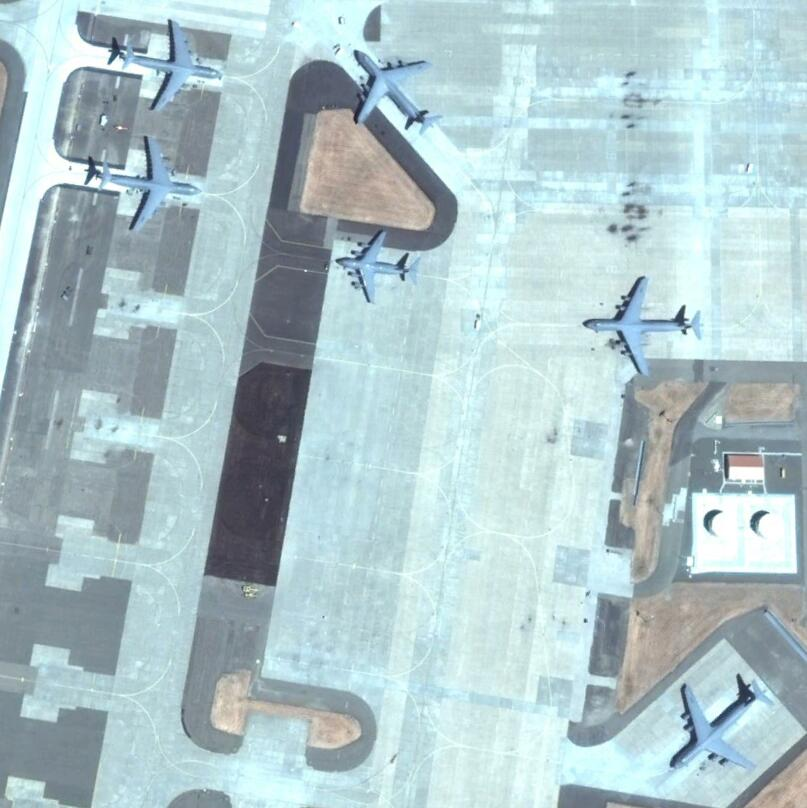A3: (333, 228, 424, 305)
A4: (587, 274, 707, 379), (101, 135, 207, 231), (671, 681, 775, 774), (126, 16, 226, 111), (353, 48, 445, 139)
